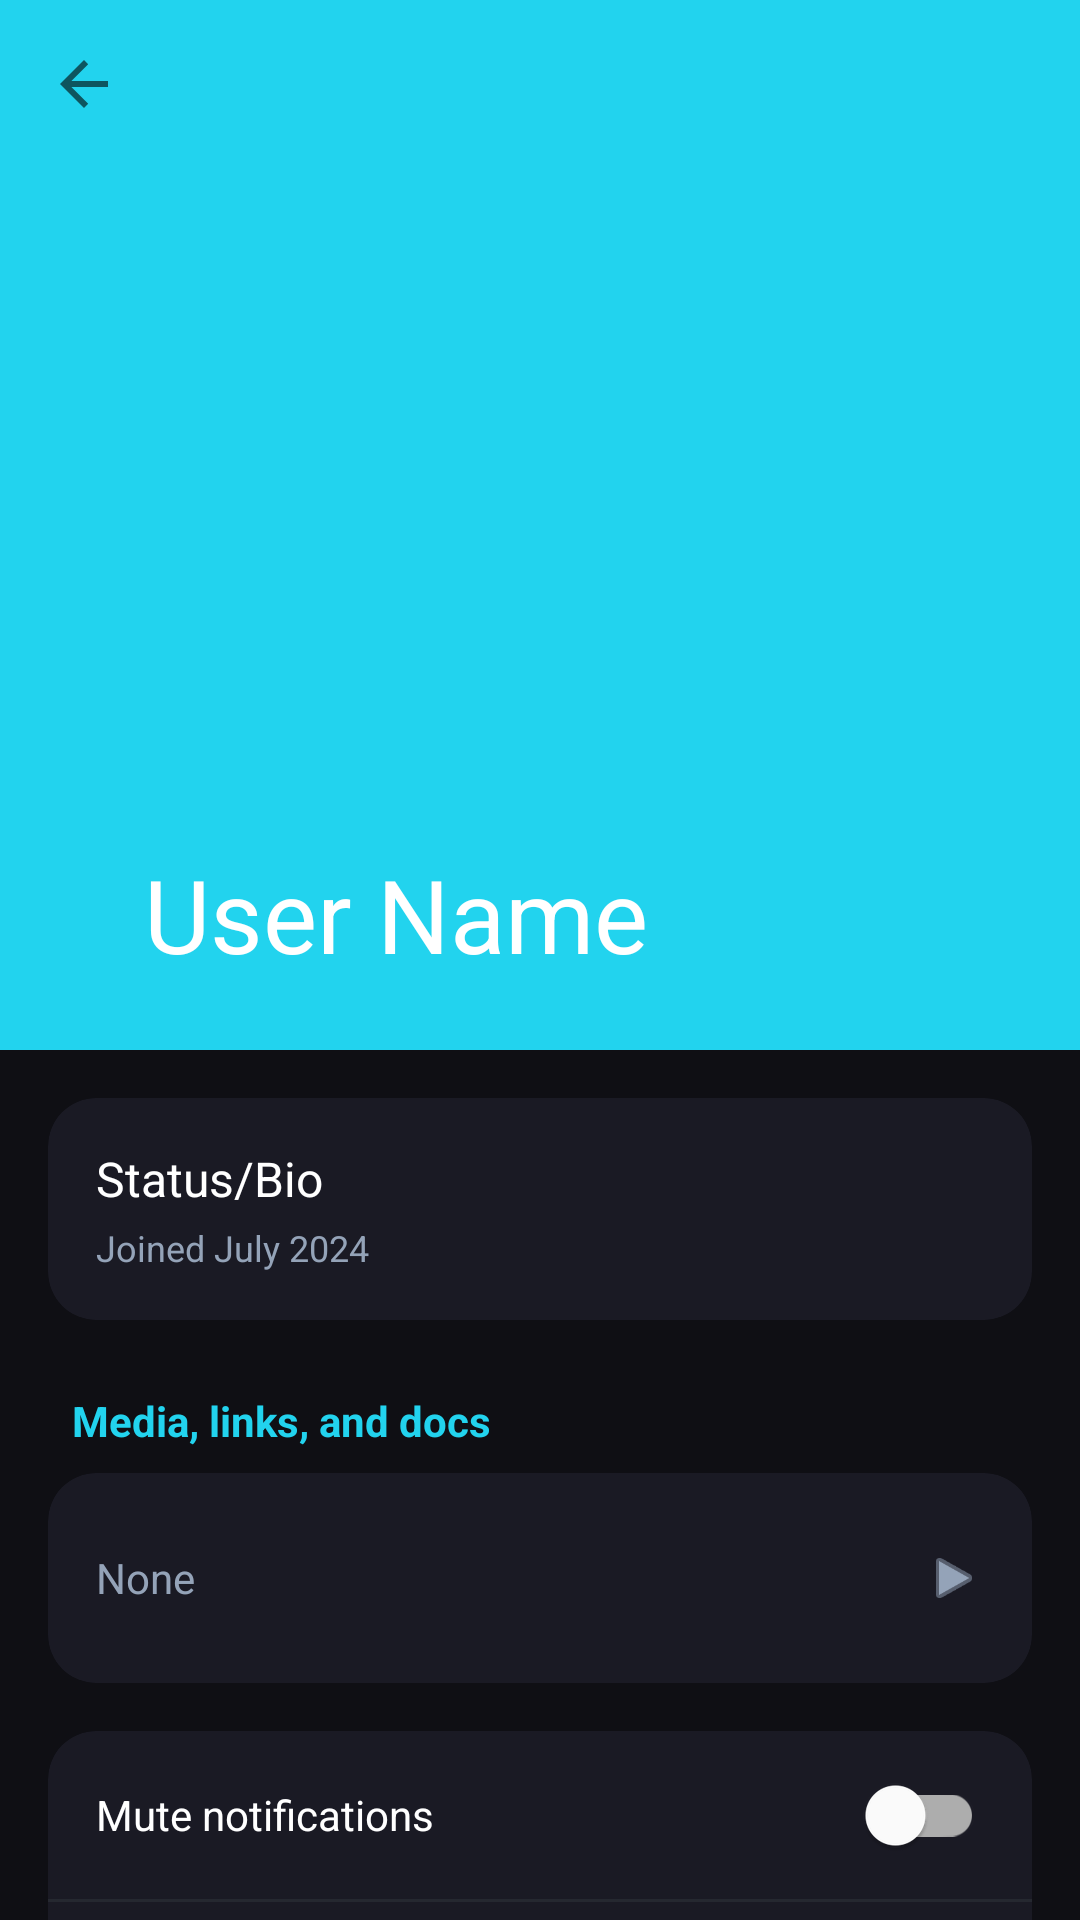

Screen size 1080w x 1920h. Icon name, then its box in pixels as region(x1, y1, x2, y2):
play: region(936, 1558, 972, 1598)
